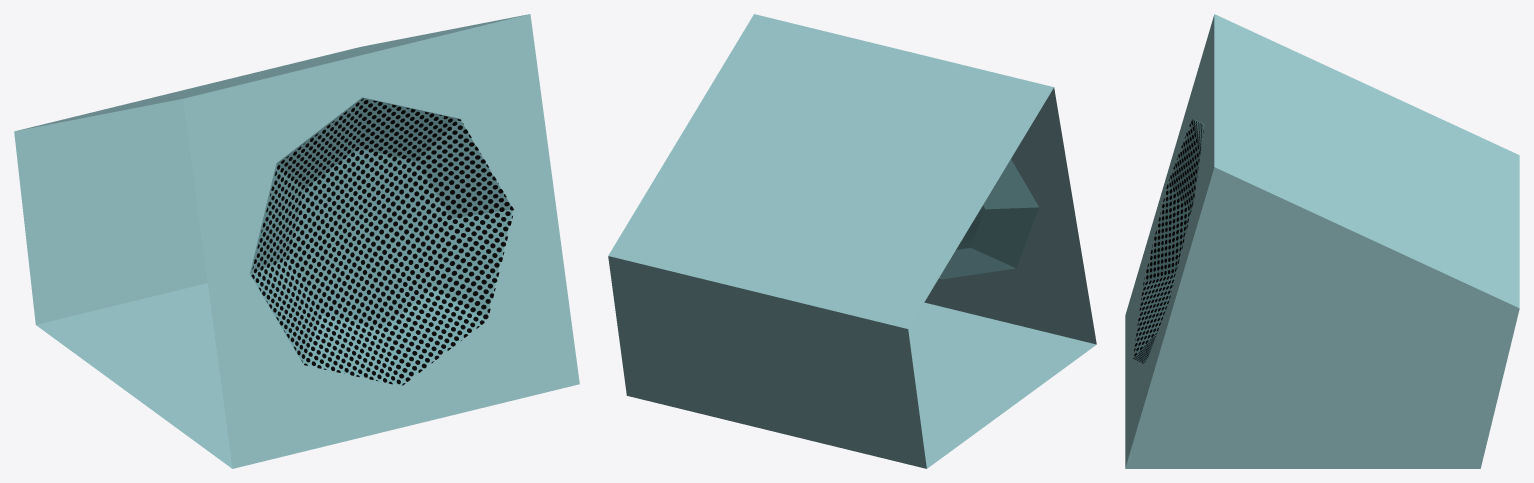
The model's file is Itr_Obj_Speaker2_Right_06.FBX.
3 renders of one model, left to right at view 1: azimuth 30°, elevation 25°; view 2: azimuth 150°, elevation 25°; view 3: azimuth 270°, elevation 25°, orthographic. The views are drawn at different scales.
Visible parts, largest first — view 1: Itr_Obj_Speaker2_Right_06; view 2: Itr_Obj_Speaker2_Right_06; view 3: Itr_Obj_Speaker2_Right_06.
Boxes of the visible parts, box(x1,y1,x2,y2) form: Itr_Obj_Speaker2_Right_06: box(14, 14, 579, 468); Itr_Obj_Speaker2_Right_06: box(608, 14, 1096, 468); Itr_Obj_Speaker2_Right_06: box(1125, 14, 1519, 468).
Size of the model in its own units: 10.38 by 9.54 by 11.31.
